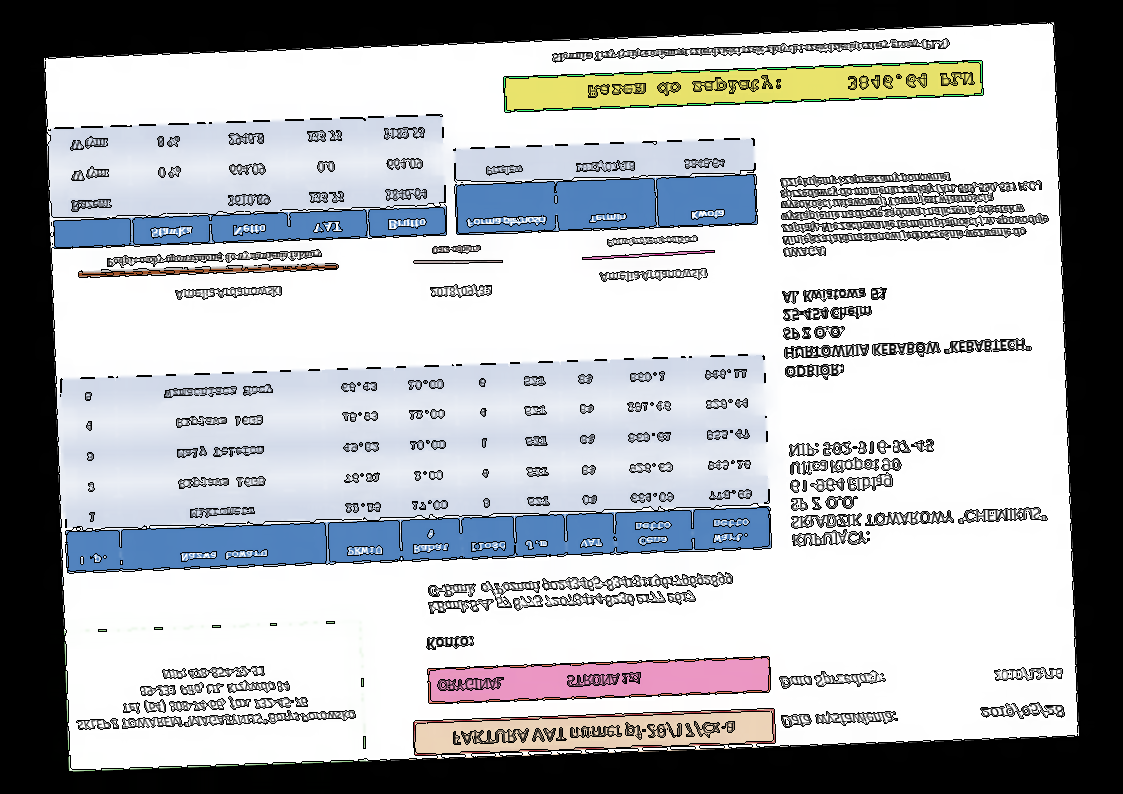Table: (58, 353, 773, 575), (48, 114, 447, 251), (452, 137, 758, 236)
TextBox: (785, 432, 1051, 550), (781, 280, 1035, 382), (778, 167, 1051, 260), (74, 661, 357, 734), (425, 570, 737, 616), (585, 67, 975, 101), (551, 37, 950, 65), (450, 718, 738, 748), (437, 670, 644, 694), (104, 248, 322, 270), (779, 707, 899, 732), (777, 669, 887, 691), (174, 283, 283, 302), (978, 700, 1066, 723), (598, 268, 708, 284), (604, 234, 700, 250), (992, 666, 1064, 684), (428, 282, 493, 300), (424, 633, 474, 653), (430, 243, 480, 257)
